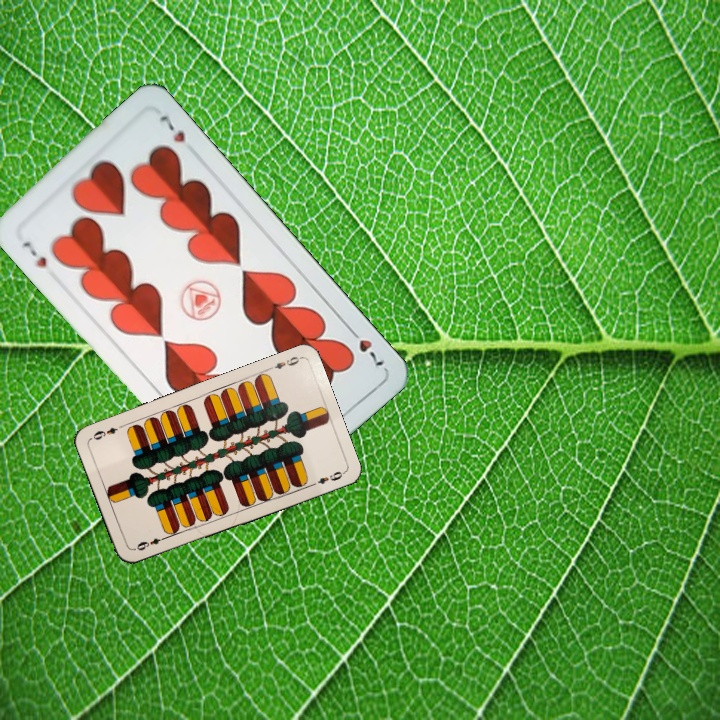E9: (264, 352, 303, 373), (130, 533, 169, 553)
H7: (344, 322, 389, 373), (18, 237, 50, 271)
